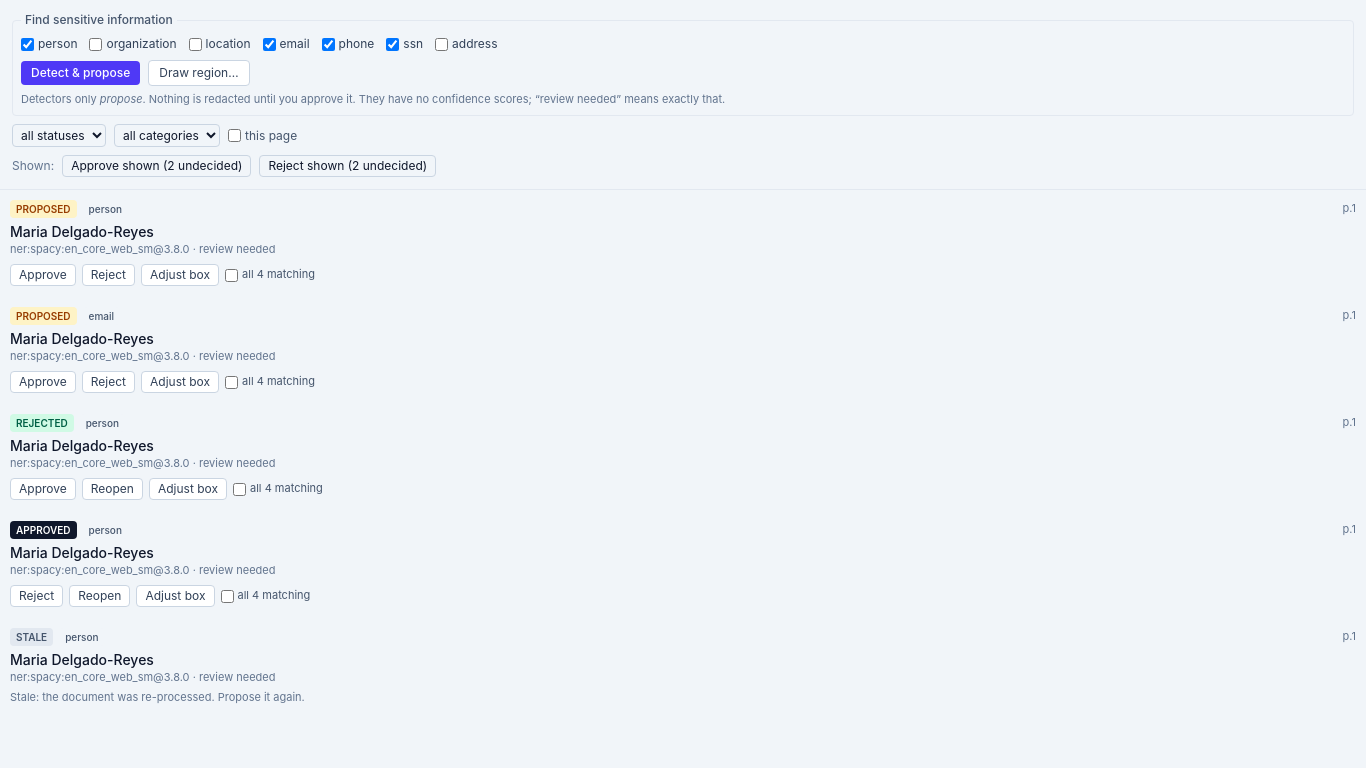
Test: FindingsPanel: bulk buttons never overwrite a decision the reviewer already made › counts only undecided findings (not stale ones) and follows the other filters
This screenshot has width=1366, height=768.
Expected: the button "Approve shown (2 undecided)" is shown, [62,155,251,177]
Select "email" in the dropdown named "Filter by category": coordinates (167, 136) [114,124,220,147]
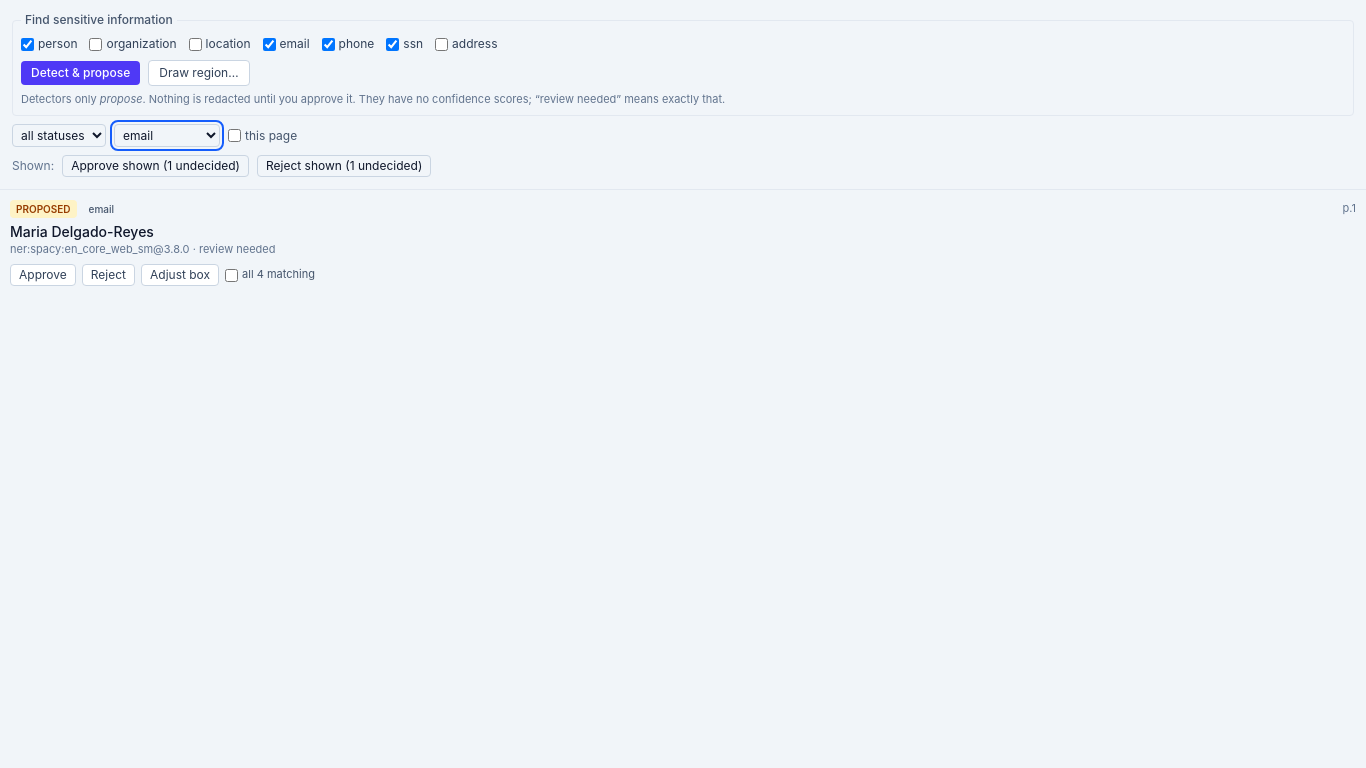
Now the button "Approve shown (1 undecided)" is shown, box [62,155,249,177]
